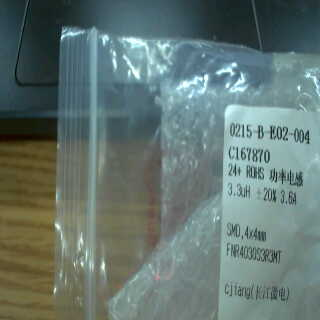3.3uH: (223, 179, 254, 202)
